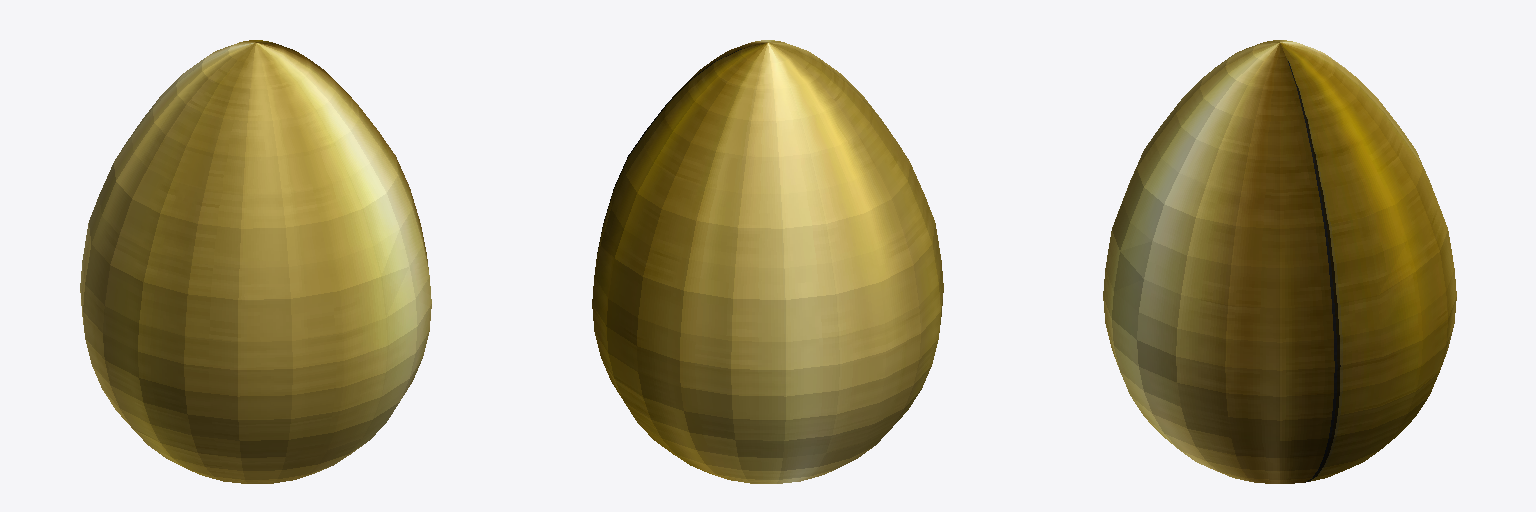
3 views of the same model, side by side, from view 1: azimuth 30°, elevation 25°; view 2: azimuth 150°, elevation 25°; view 3: azimuth 270°, elevation 25° (orthographic).
Parts seen in each view (by area): view 1: pSphere1; view 2: pSphere1; view 3: pSphere1.
Part boxes in pixels (x1,y1,x2,y2): pSphere1: (80, 40, 431, 483); pSphere1: (592, 40, 943, 483); pSphere1: (1103, 40, 1456, 483).
Bounding box in the file's own units: 4.78 × 6.37 × 4.78.
1 materials, 1 textured.